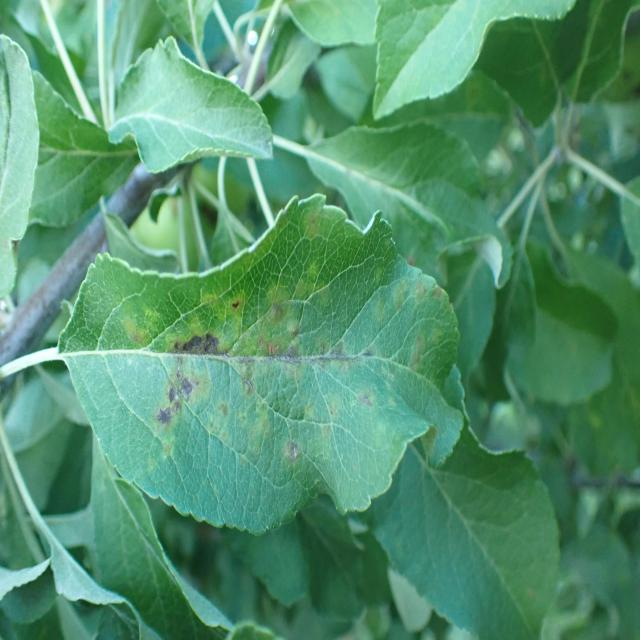scab: (77, 228, 457, 522)
